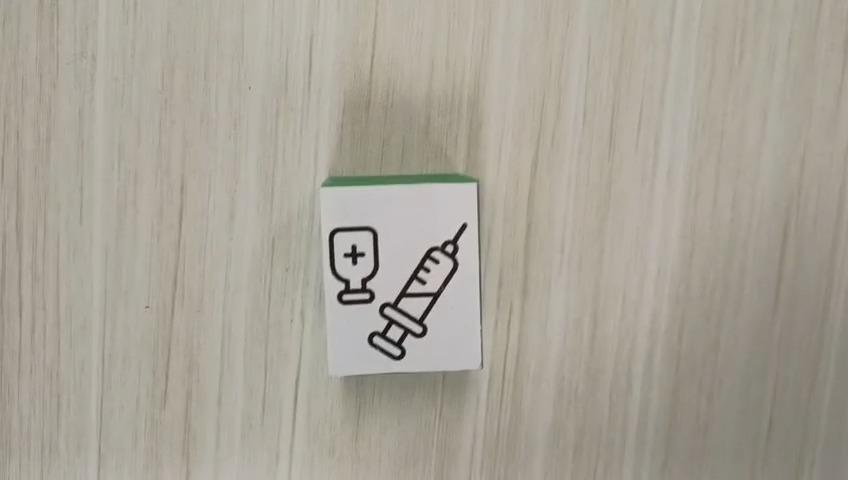antiseptic cream: (318, 173, 483, 377)
